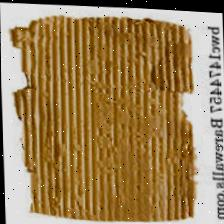cardboard: (7, 0, 206, 224)
